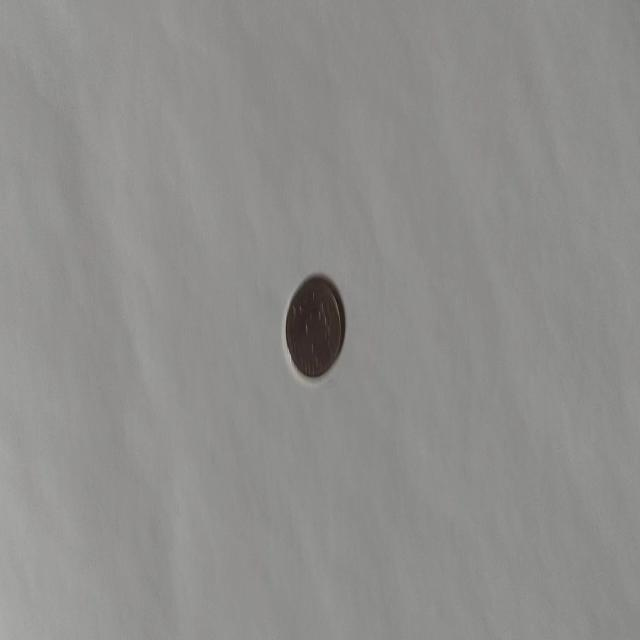seribu rupiah koin: (282, 272, 344, 382)
